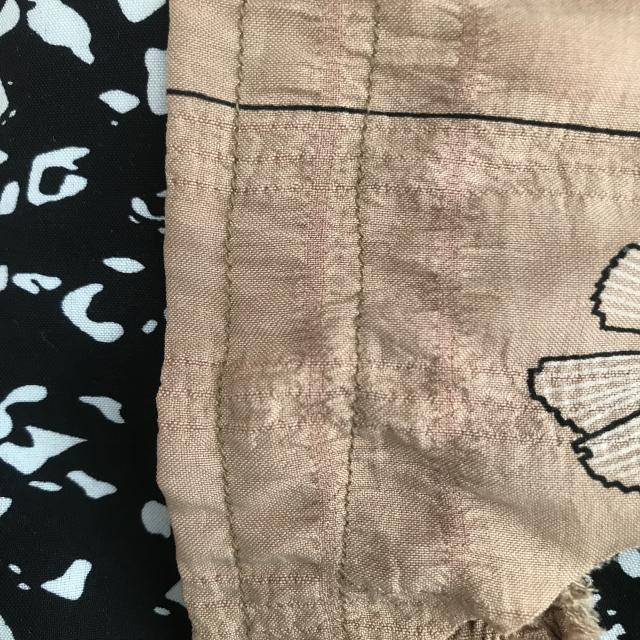good: (204, 439, 260, 567), (211, 167, 249, 331), (227, 20, 254, 95)
